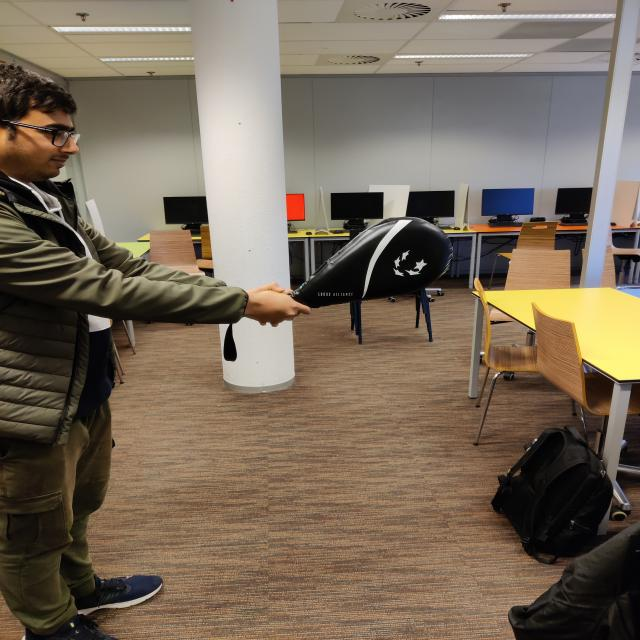paddle: (287, 216, 458, 310)
